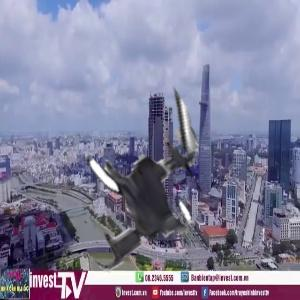drone: (59, 109, 232, 282)
